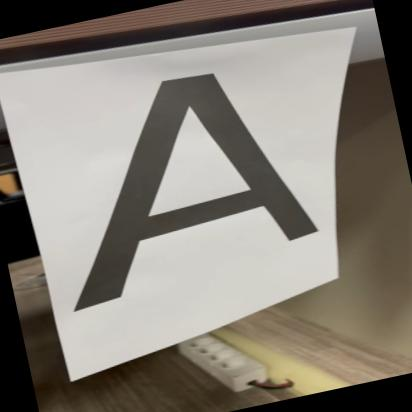seat: (28, 43, 332, 322)
